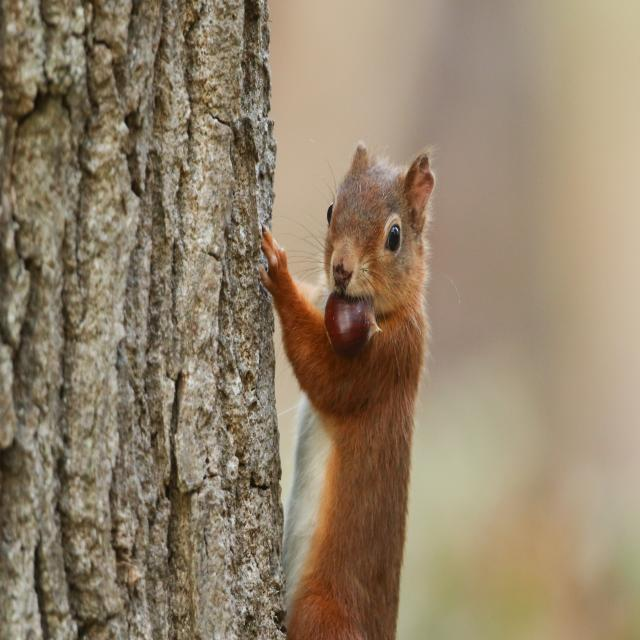Squirrel: (268, 142, 437, 640)
